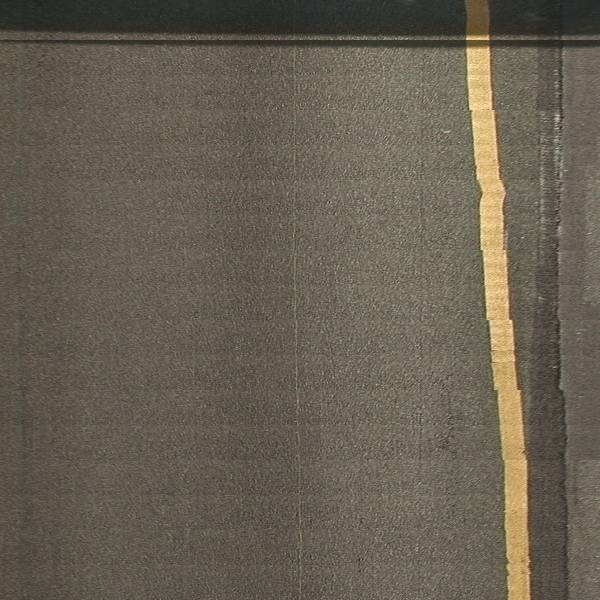road_damage: (542, 50, 578, 571)
